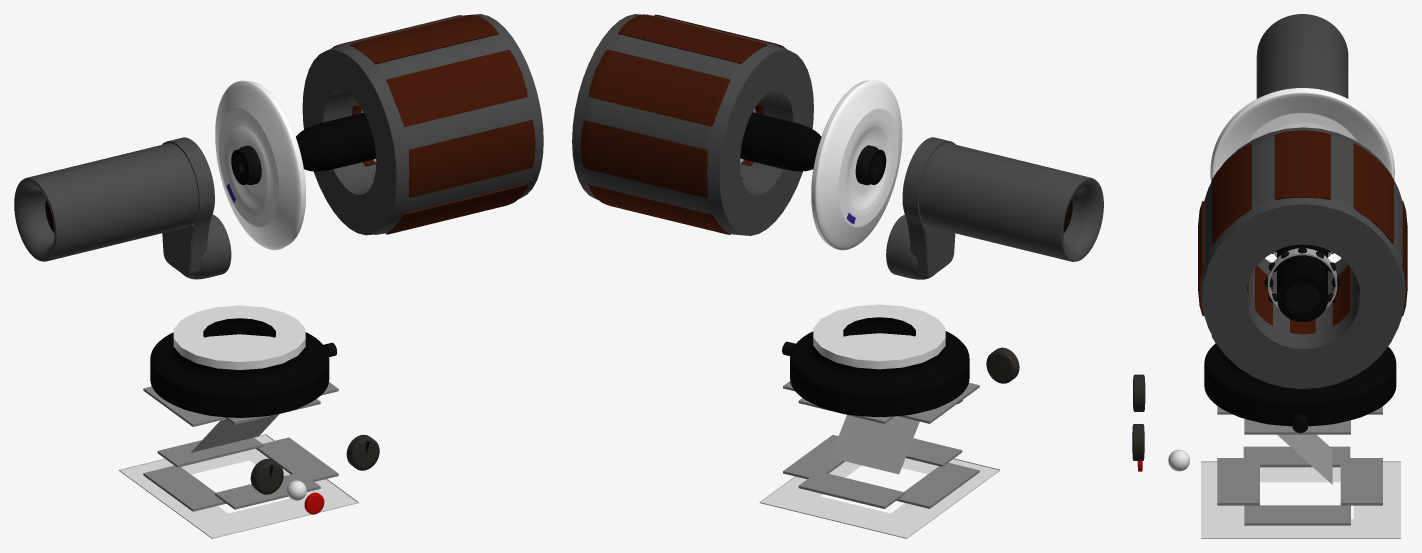
The picture shows the model from 3 angles, left to right: view 1: azimuth 30°, elevation 25°; view 2: azimuth 150°, elevation 25°; view 3: azimuth 270°, elevation 25°; orthographic projection. The views are drawn at different scales.
Visible parts, largest first — view 1: Core, CathFormer, Anode, Cylinder001, Coil8, Coil7, Box002, Cylinder009, Rotor, Coil1, CathCova, Coil6 (+12 smaller); view 2: Core, CathFormer, Anode, Cylinder001, Coil2, Coil3, Box002, Cylinder009, Rotor, mIrror, Coil1, CathCova (+11 smaller); view 3: Core, Cylinder001, Box002, Anode, CathFormer, Coil1, Coil8, Coil2, Rotor, LP2, LP4, LP3 (+13 smaller).
Part boxes in pixels (bbox=[...]): Core: bbox=[302, 14, 543, 235]; CathFormer: bbox=[14, 143, 198, 261]; Anode: bbox=[215, 80, 305, 250]; Cylinder001: bbox=[150, 318, 329, 417]; Coil8: bbox=[386, 50, 527, 126]; Coil7: bbox=[409, 120, 535, 197]; Box002: bbox=[119, 434, 358, 538]; Cylinder009: bbox=[173, 305, 305, 369]; Rotor: bbox=[231, 112, 375, 184]; Coil1: bbox=[349, 14, 498, 64]; CathCova: bbox=[162, 137, 214, 276]; Coil6: bbox=[386, 183, 527, 234]; Core: bbox=[572, 14, 813, 235]; CathFormer: bbox=[919, 143, 1103, 261]; Anode: bbox=[811, 80, 902, 250]; Cylinder001: bbox=[790, 317, 969, 416]; Coil2: bbox=[588, 49, 730, 126]; Coil3: bbox=[580, 120, 707, 197]; Box002: bbox=[759, 458, 1000, 538]; Cylinder009: bbox=[813, 304, 945, 369]; Rotor: bbox=[740, 112, 886, 184]; mIrror: bbox=[830, 415, 919, 474]; Coil1: bbox=[618, 14, 767, 63]; CathCova: bbox=[902, 137, 955, 276]; Core: bbox=[1200, 127, 1405, 388]; Cylinder001: bbox=[1204, 343, 1396, 426]; Box002: bbox=[1201, 461, 1400, 538]; Anode: bbox=[1210, 88, 1394, 182]; CathFormer: bbox=[1256, 14, 1348, 98]; Coil1: bbox=[1274, 130, 1330, 200]; Coil8: bbox=[1211, 143, 1252, 244]; Coil2: bbox=[1353, 143, 1393, 243]; Rotor: bbox=[1277, 244, 1327, 322]; LP2: bbox=[1244, 505, 1350, 525]; LP4: bbox=[1340, 458, 1382, 505]; LP3: bbox=[1217, 458, 1259, 505].
Size of the model in its own units: 160 by 132 by 75.81.
